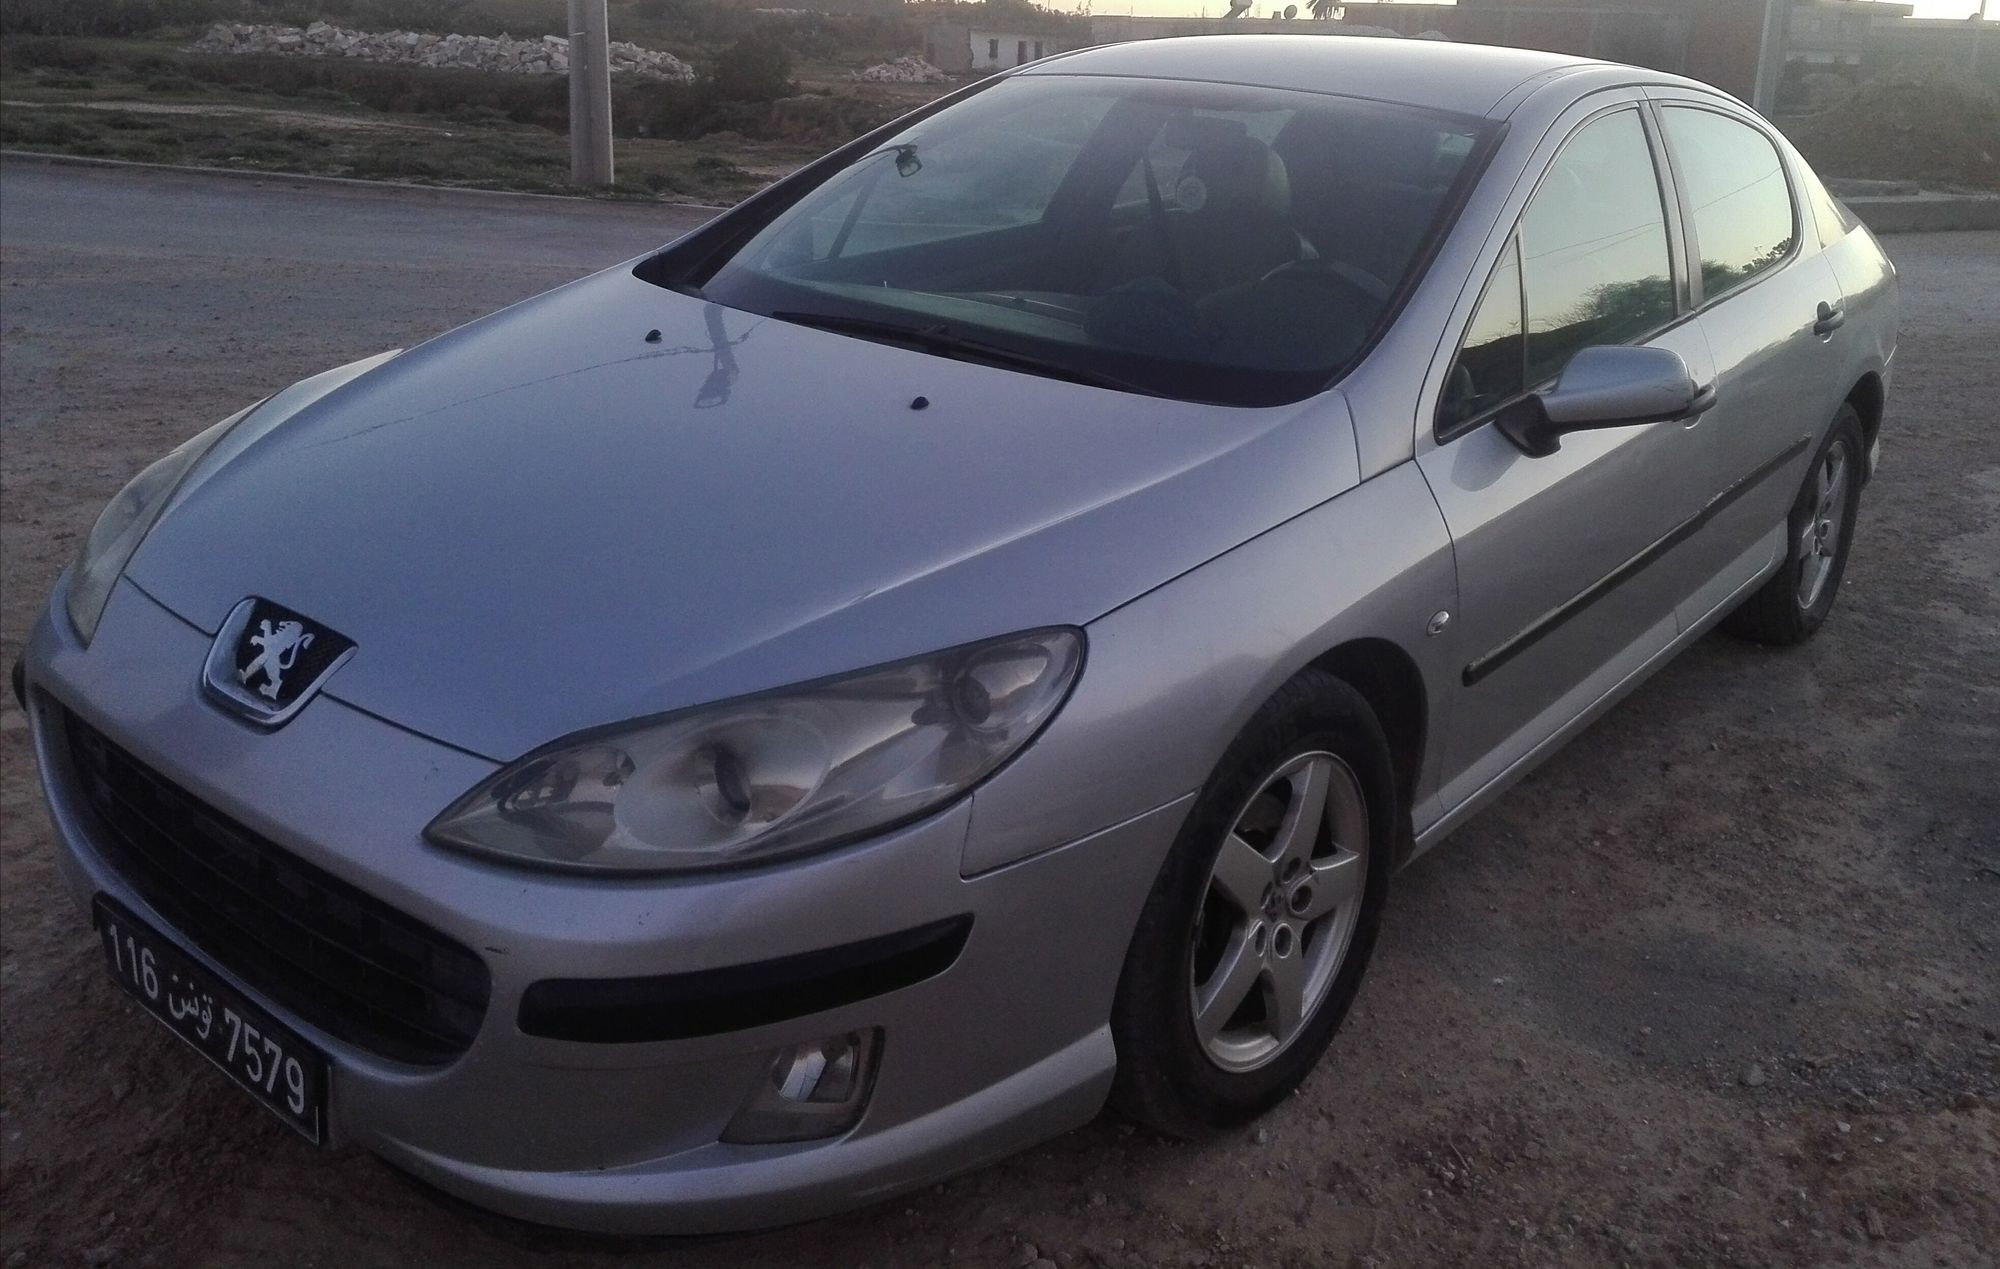LP: (90, 901, 325, 1147)
